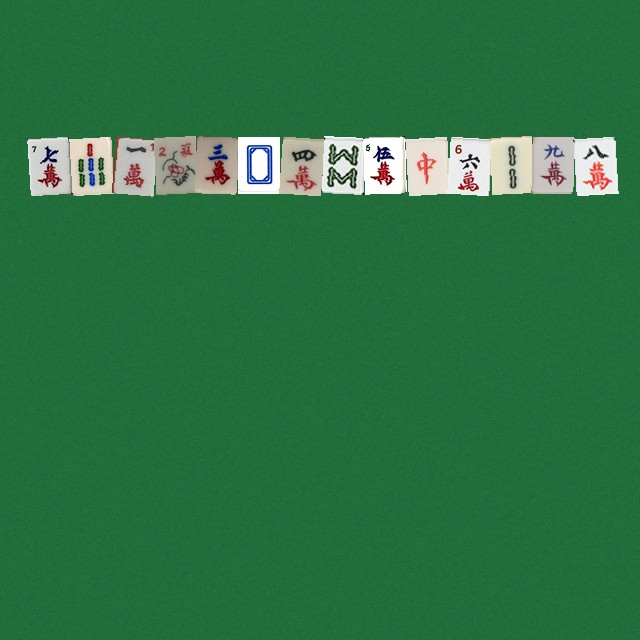tile: (27, 136, 69, 193), (69, 136, 111, 193), (111, 136, 153, 193), (153, 136, 195, 193), (195, 136, 237, 193), (237, 136, 279, 193), (279, 136, 321, 193), (321, 136, 363, 193), (363, 136, 405, 193), (405, 136, 447, 193), (447, 136, 489, 193), (489, 136, 531, 193), (531, 136, 573, 193), (573, 136, 615, 193)
